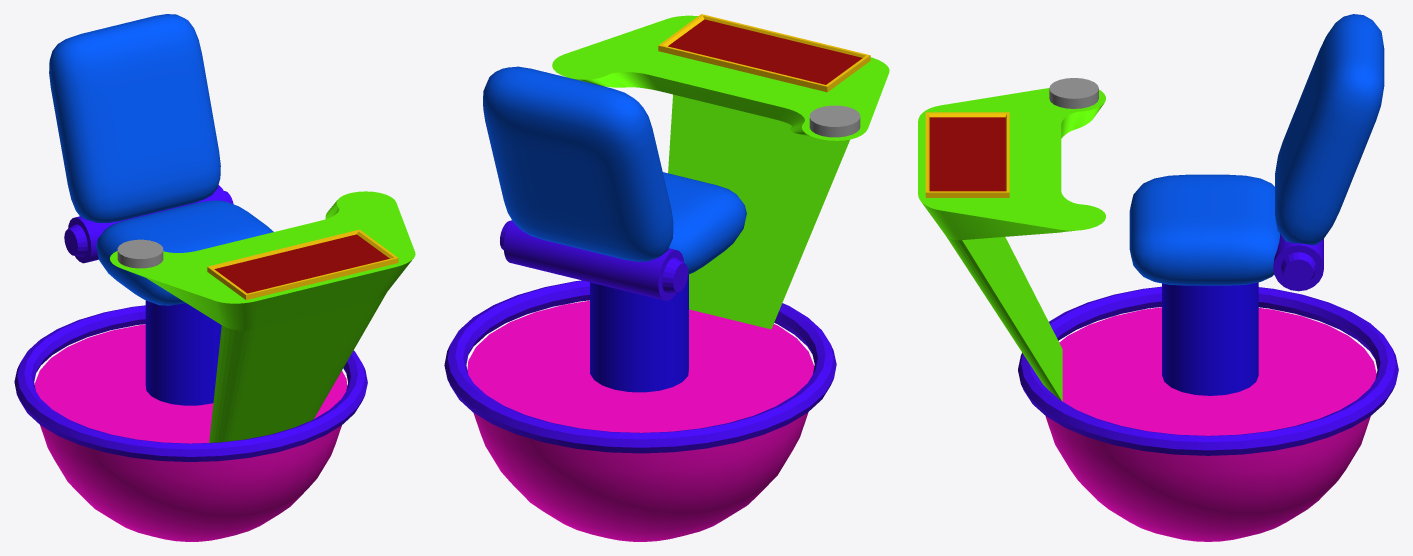
The model's file is Control_Seat3.fbx.
The picture shows the model from 3 angles, left to right: view 1: azimuth 30°, elevation 25°; view 2: azimuth 150°, elevation 25°; view 3: azimuth 270°, elevation 25°; orthographic projection. The views are drawn at different scales.
Visible parts, largest first — view 1: Sphere002; view 2: Sphere002; view 3: Sphere002.
Boxes of the visible parts, x1,y1,x2,y2 form: Sphere002: [14, 14, 415, 541]; Sphere002: [444, 14, 889, 541]; Sphere002: [918, 14, 1398, 541].
Bounding box in the file's own units: 35.8 × 50.39 × 45.17.
